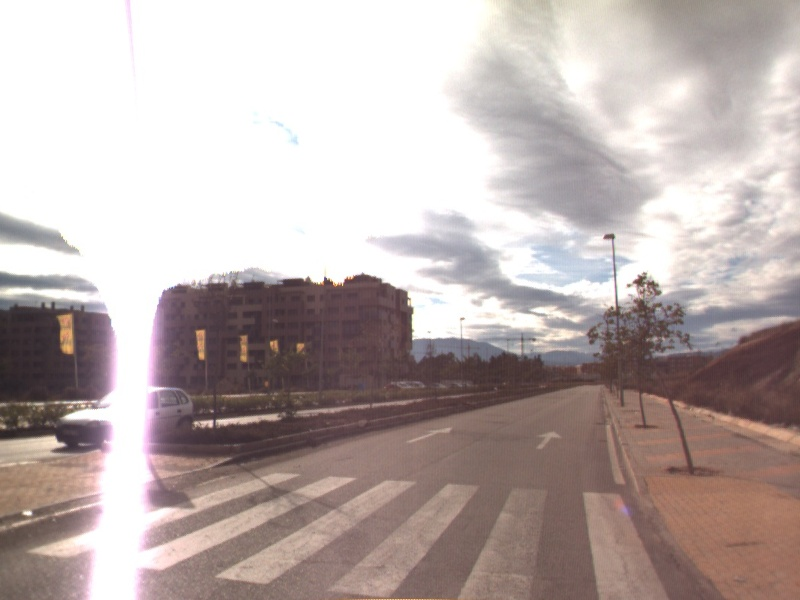STRAIGHT: (404, 425, 454, 445), (533, 429, 564, 451)
